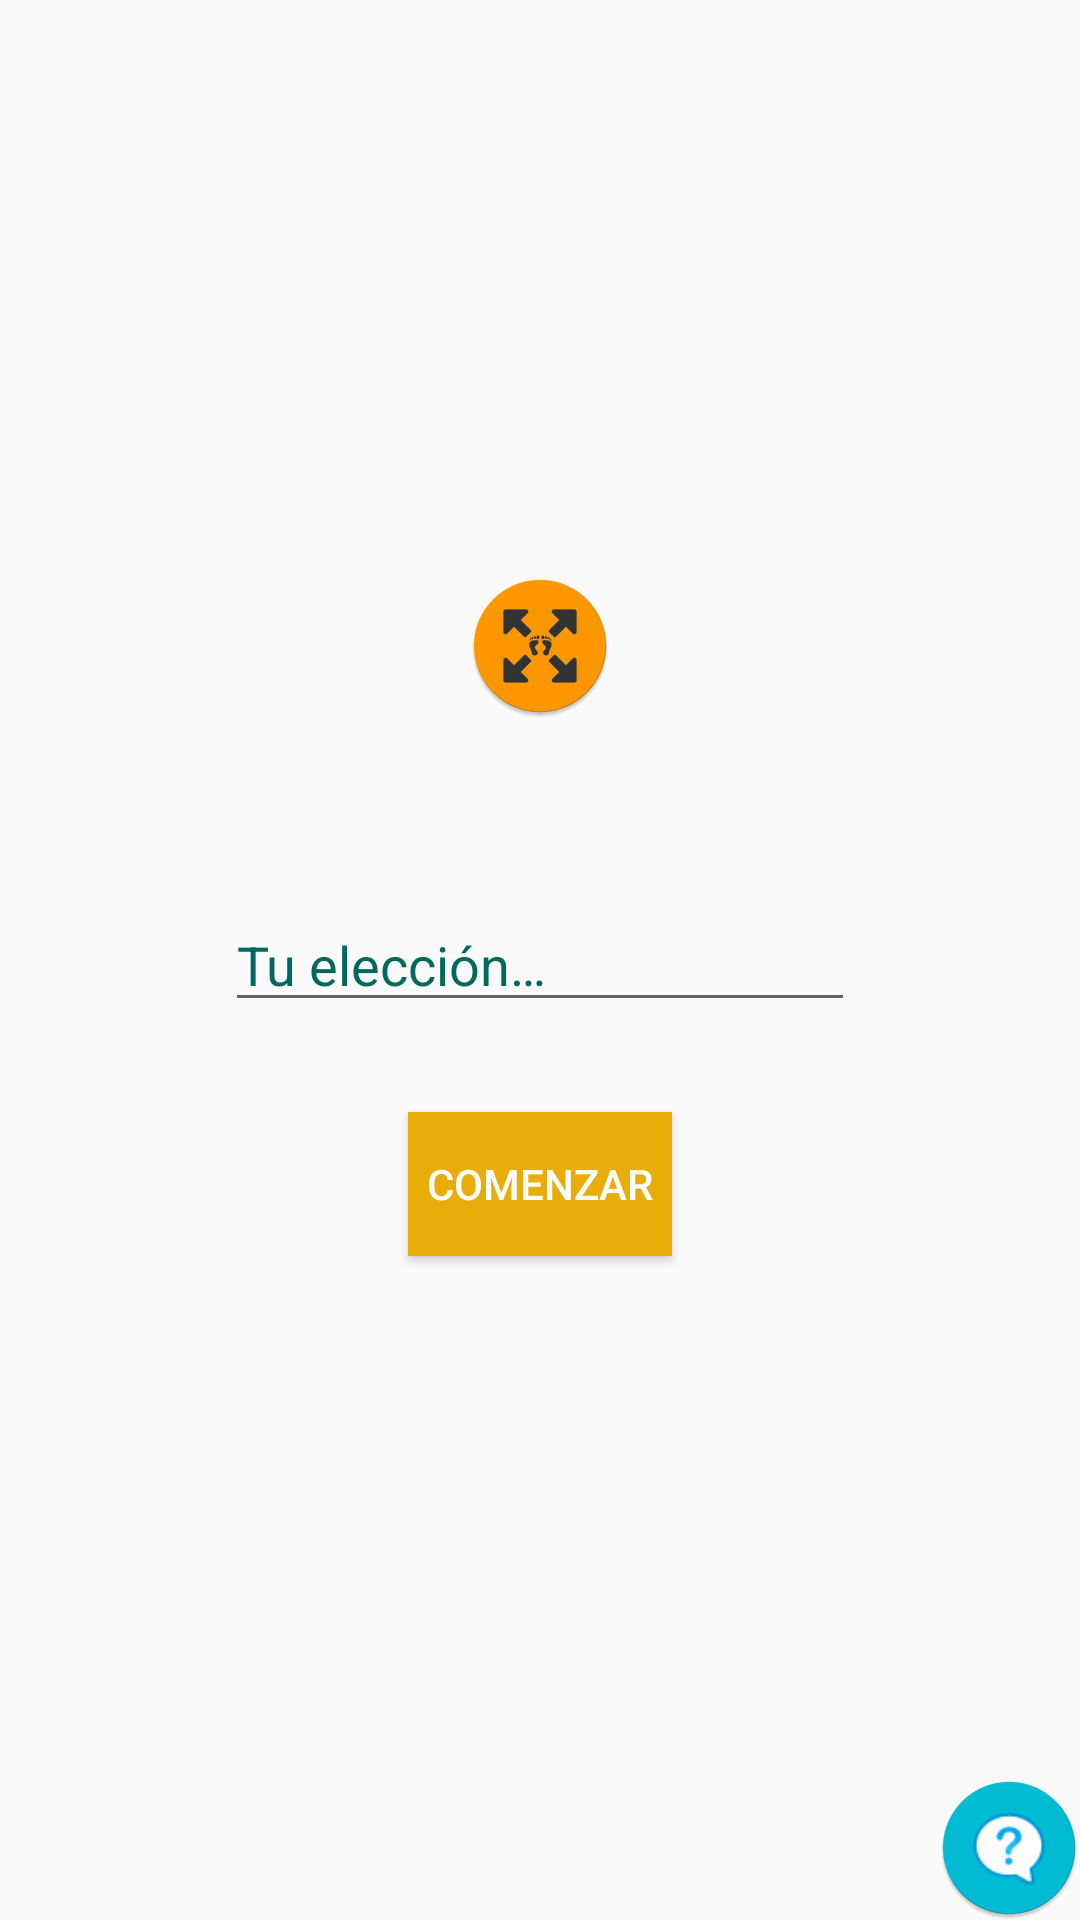

Icons on this 1080px x 1920px Android screen, each with the point to tap as point (x, y):
ayuda: point (1009, 1849)
